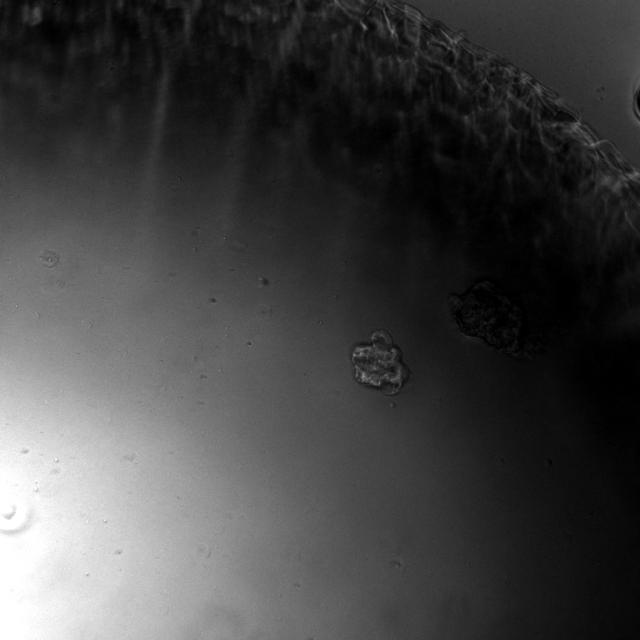organoid: (351, 330, 408, 395)
